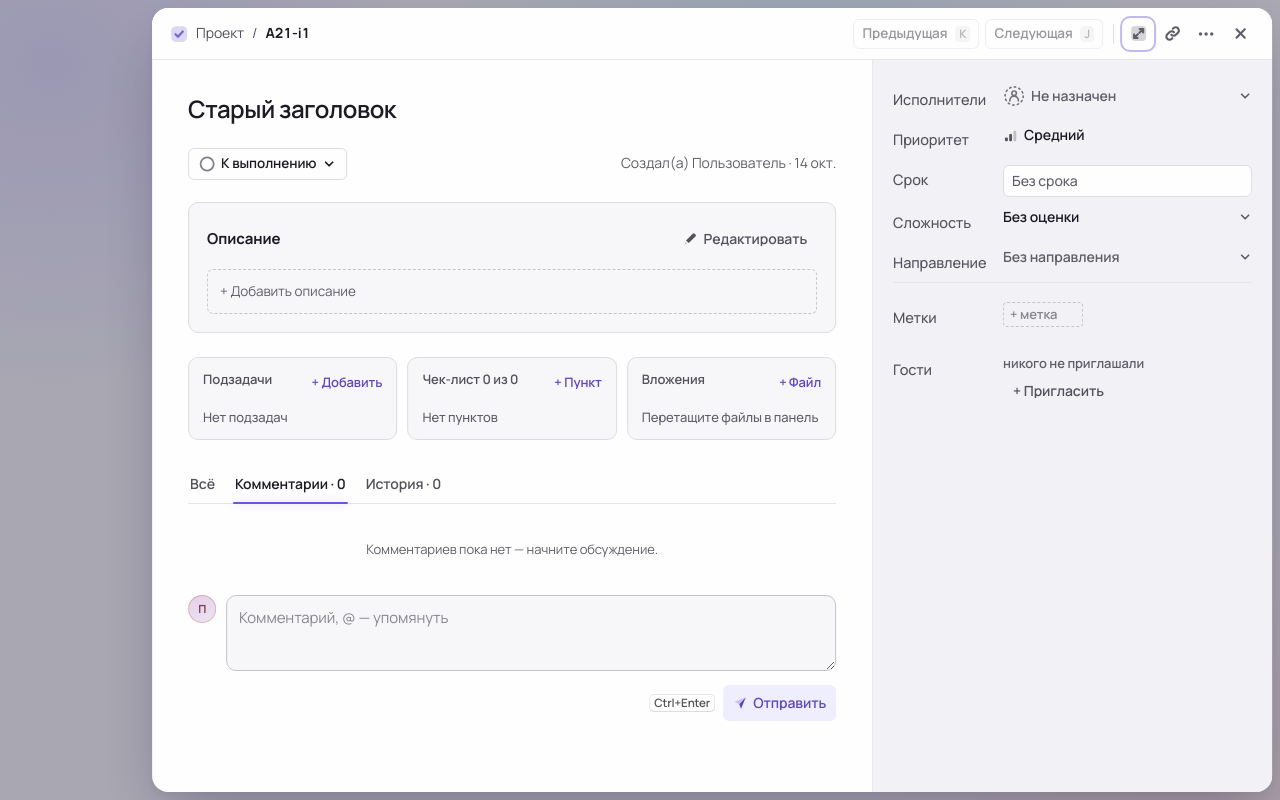
IssueModal — характеризационные тесты (ТЗ 5.12 d, до переработки) › инлайн-правка заголовка (blur/Enter) вызывает patch с { title } и показывает новое значение
Click the button with aria-label "Переименовать задачу: Старый заголовок": (292, 108) [188,92,396,125]
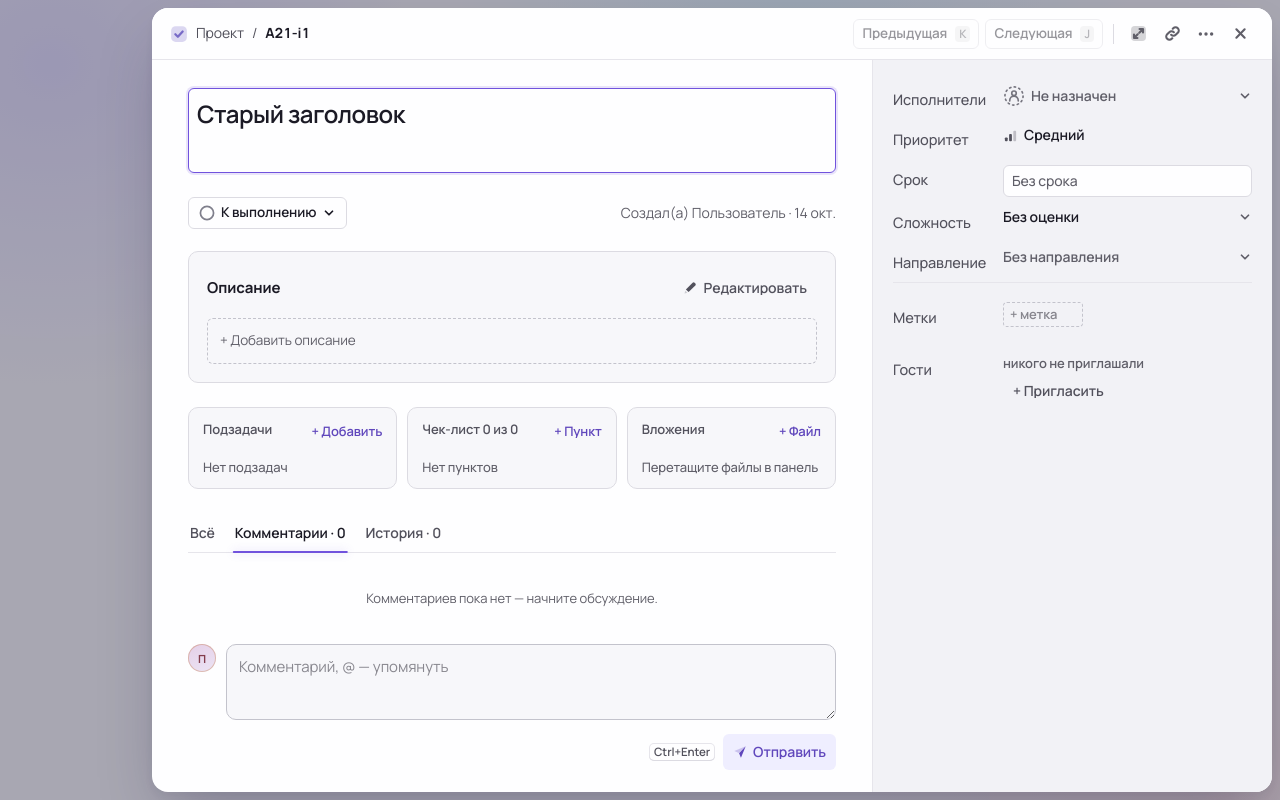
Replace the text in the text box showing "Старый заголовок" with "Новый заголовок": (512, 131) [188,88,836,173]
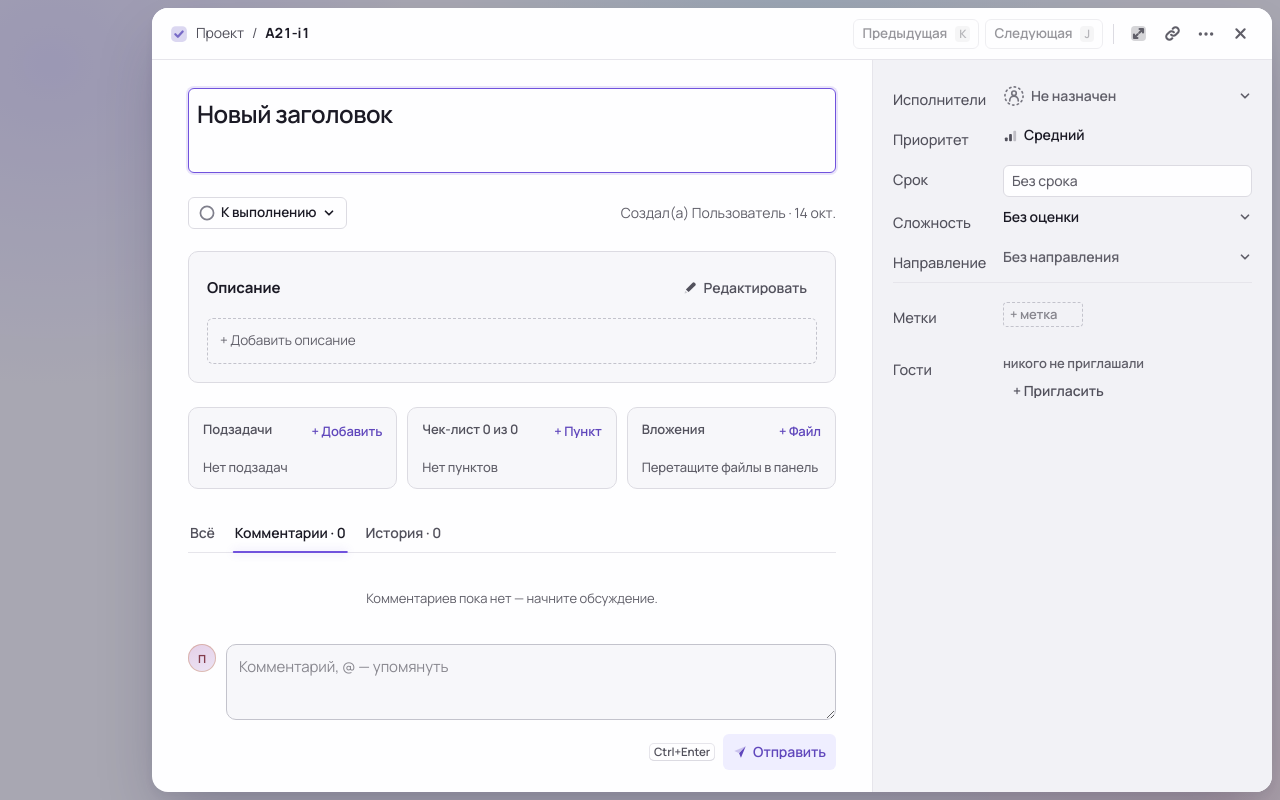
Leave the text box showing "Старый заголовок", box [188,88,836,173]
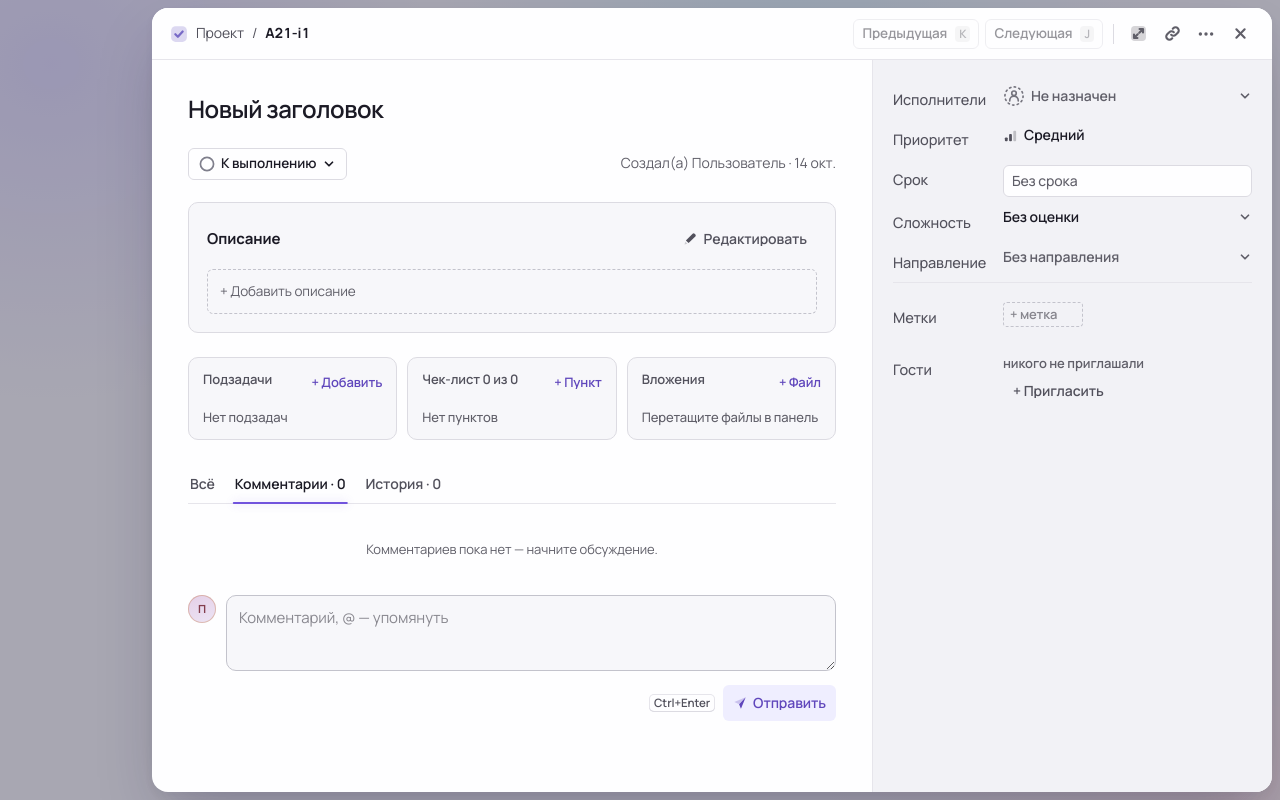
Expected: the button with aria-label "Переименовать задачу: Новый заголовок" is shown, [188,92,383,125]
